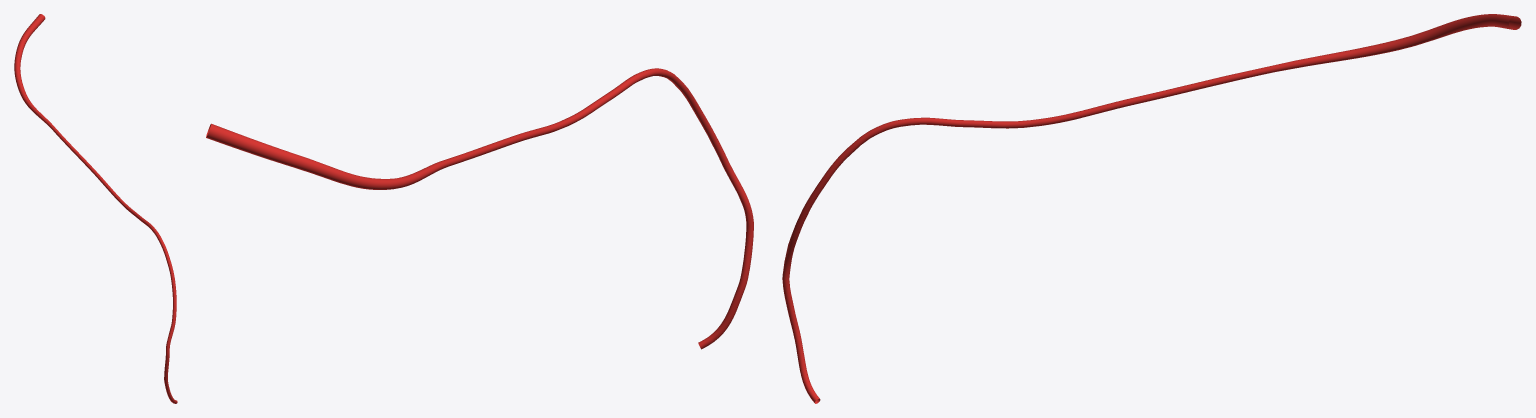
Rendered from circulatorio-posterior-septal-branches-of-sphenopalatine-artery-l.glb.
The picture shows the model from 3 angles, left to right: view 1: azimuth 30°, elevation 25°; view 2: azimuth 150°, elevation 25°; view 3: azimuth 270°, elevation 25°; orthographic projection. The views are drawn at different scales.
Visible parts, largest first — view 1: Posterior septal branches of sphenopalatine artery.l; view 2: Posterior septal branches of sphenopalatine artery.l; view 3: Posterior septal branches of sphenopalatine artery.l.
Part boxes in pixels (x1,y1,x2,y2): Posterior septal branches of sphenopalatine artery.l: (14, 14, 177, 403); Posterior septal branches of sphenopalatine artery.l: (206, 68, 753, 349); Posterior septal branches of sphenopalatine artery.l: (782, 14, 1521, 403).
Bounding box in the file's own units: 0.00919 × 0.0274 × 0.042.
